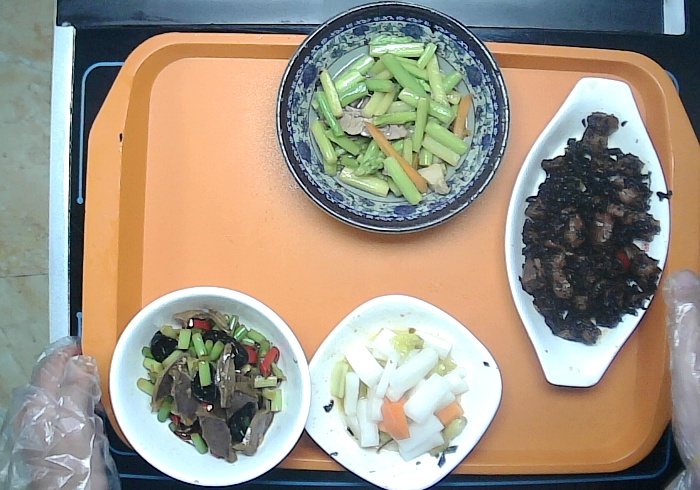ZNLD-Qing_Hua_Wan: (274, 1, 513, 236)
ZNLD-Si_Fang_Wan: (301, 292, 507, 490)
ZNLD-Tang_Wan: (107, 283, 314, 490)
ZNLD-Yu_Pan: (500, 73, 672, 394)
